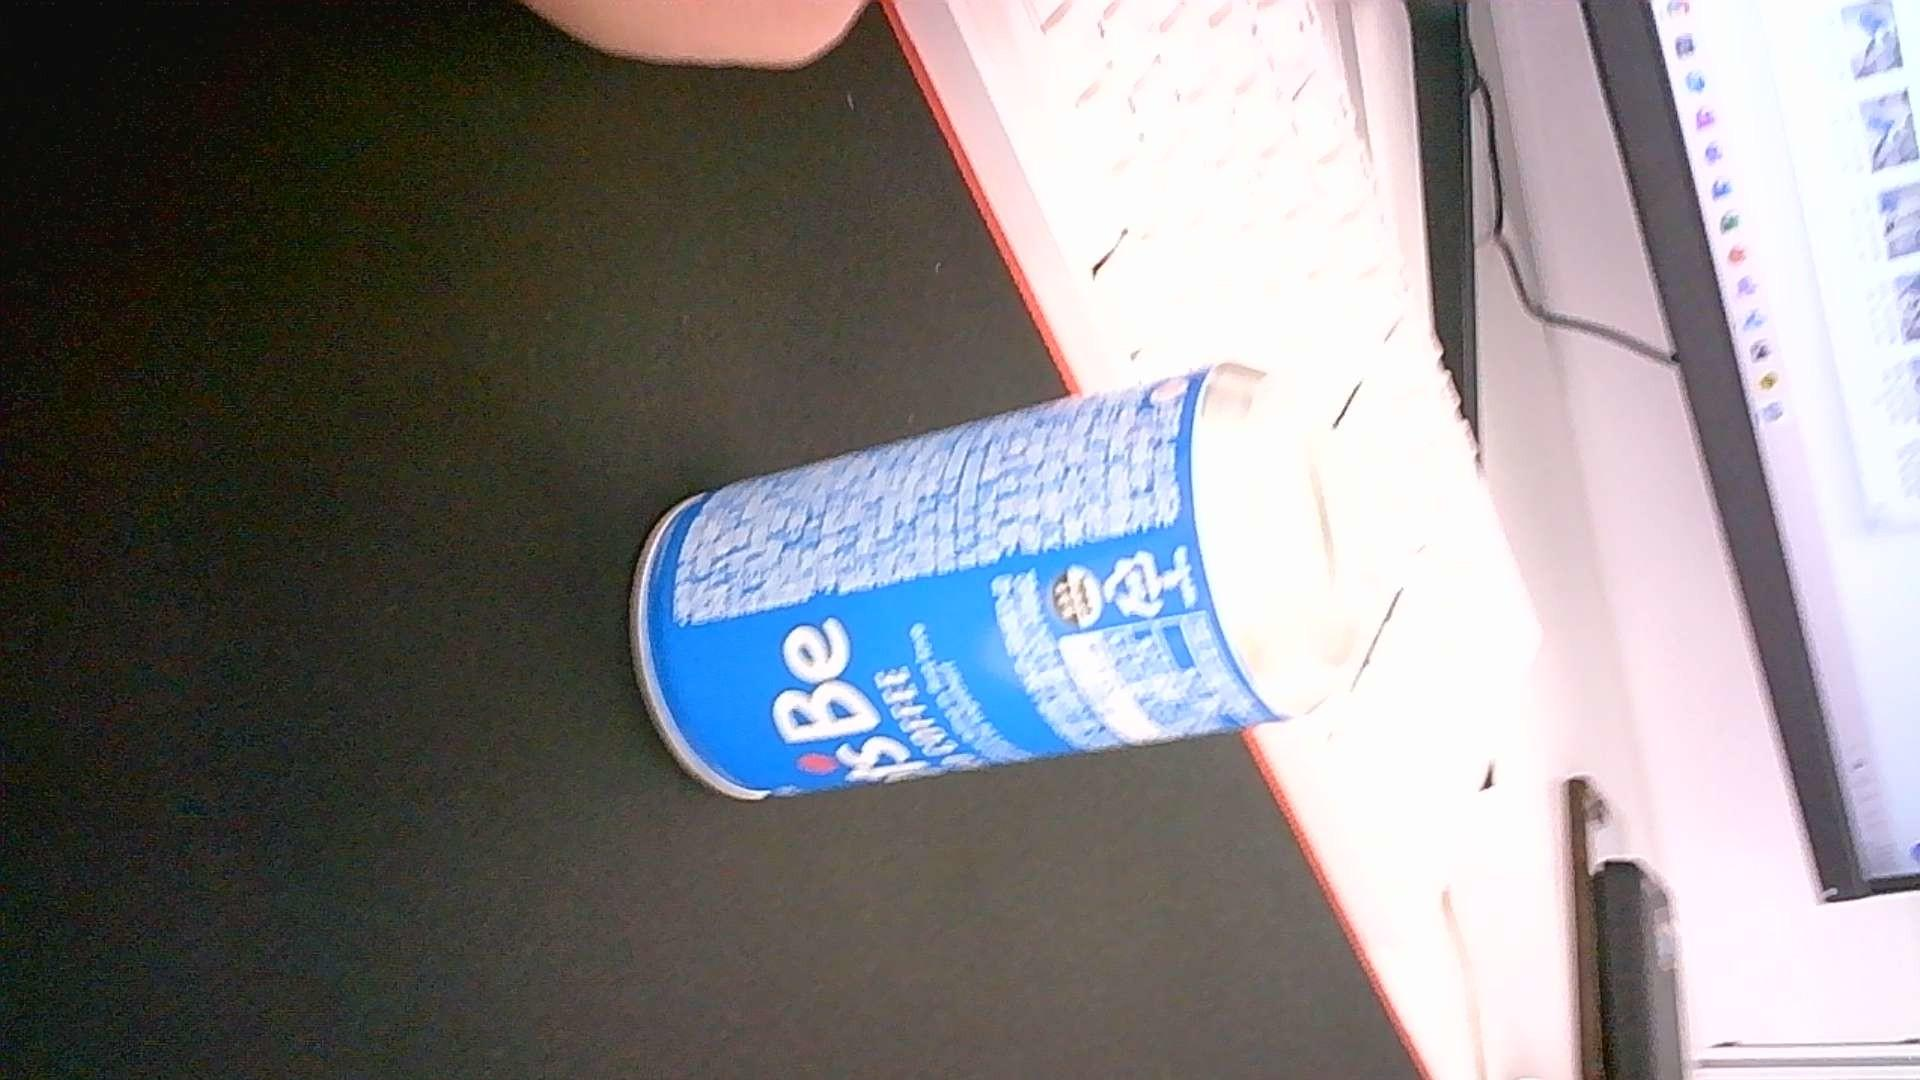letsbe: (626, 360, 1345, 802)
